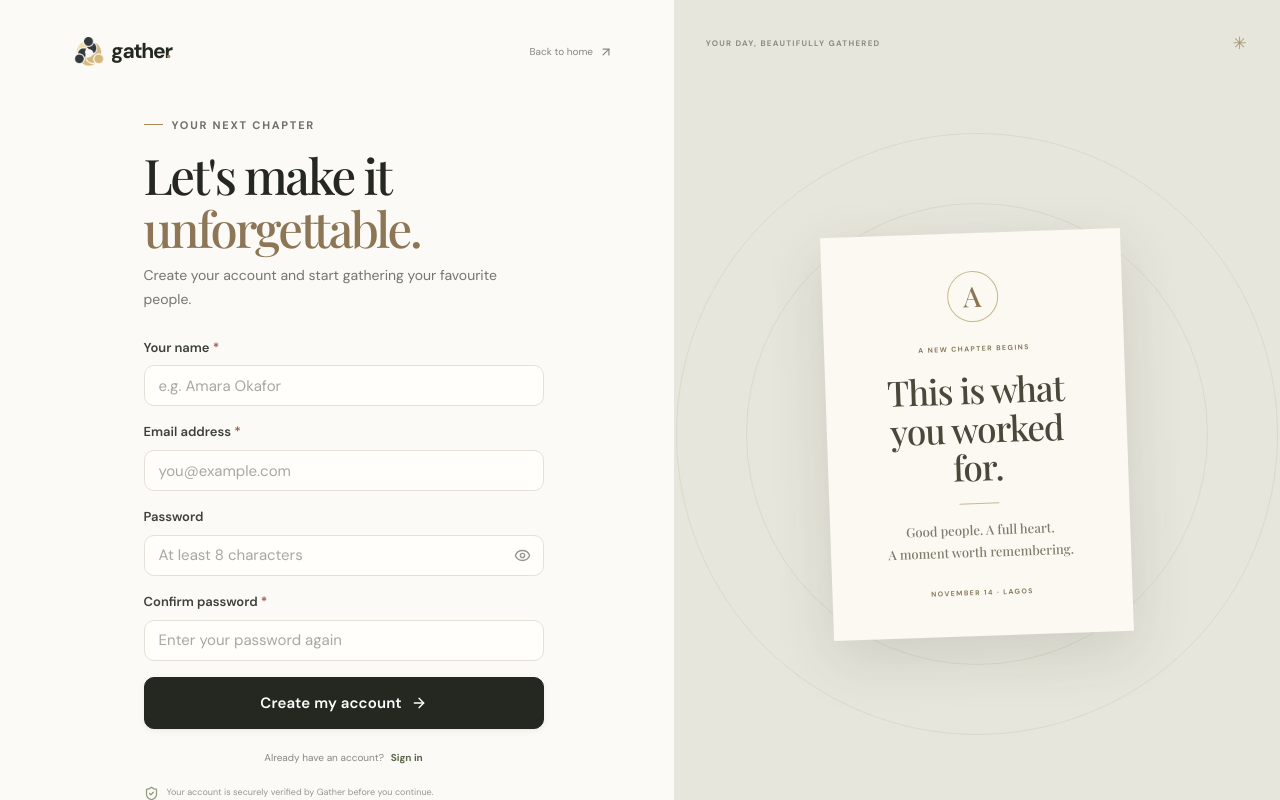
Test case: AuthPage › blocks signup when the passwords do not match
Step 1. Type "Ada Lovelace" into the field labelled "Your name *" → [344, 386], box left=144, top=365, right=544, bottom=406
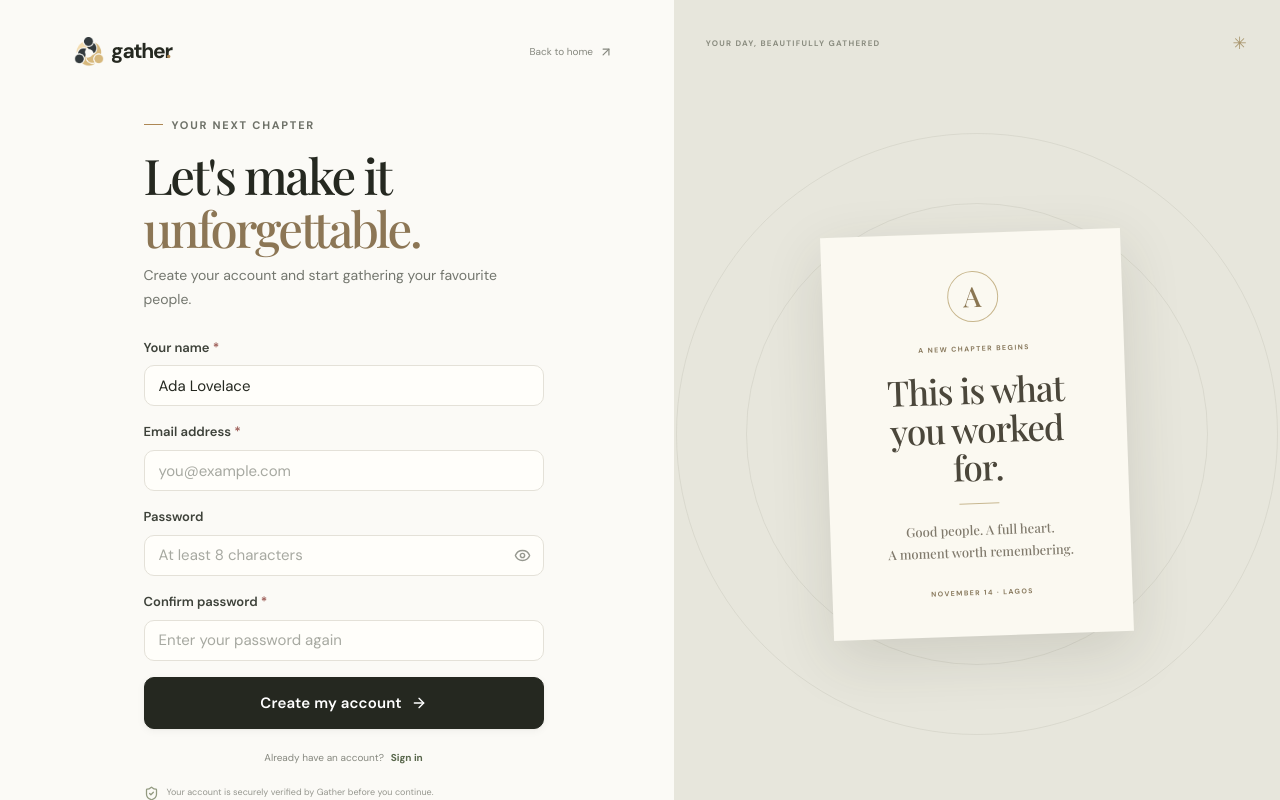
Step 2. Type "ada@example.com" into the field labelled "Email address *" → [344, 471], box left=144, top=450, right=544, bottom=491
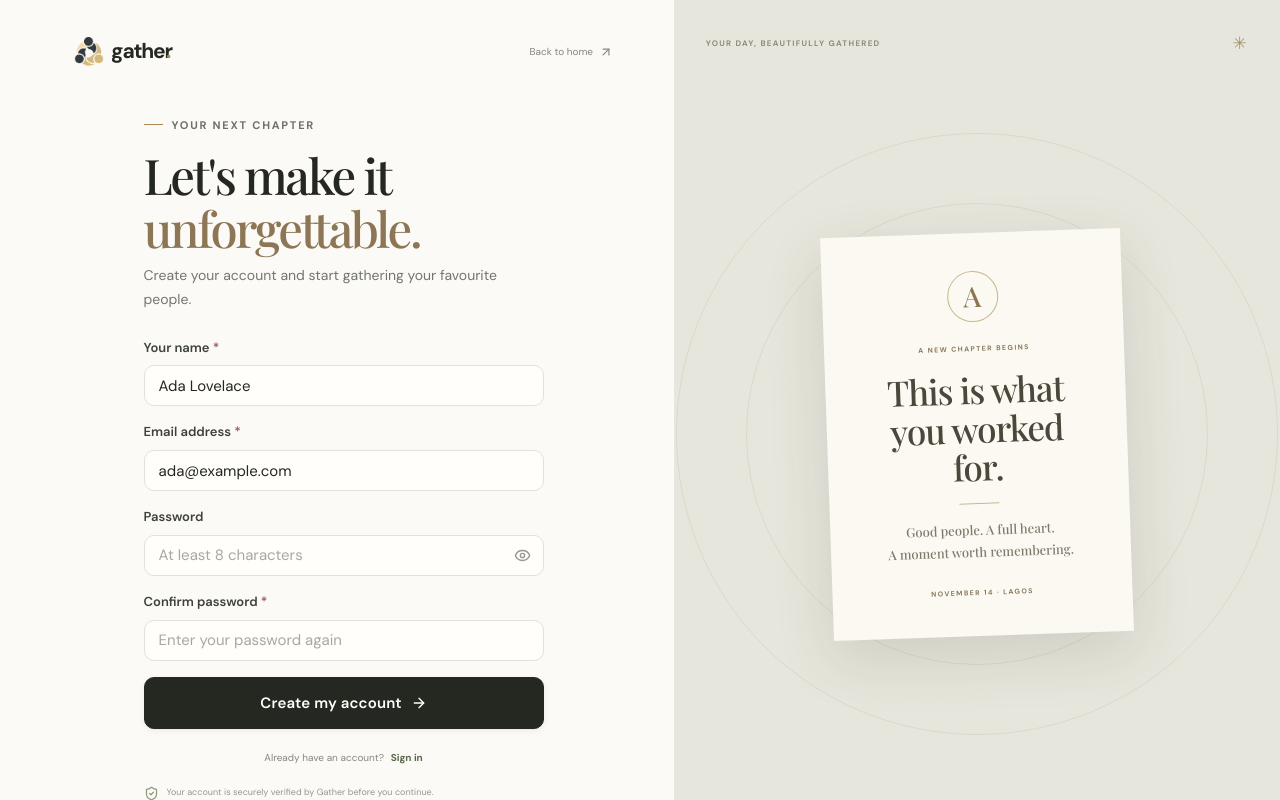
Step 3. Type "password123" into the password field labelled "Password" → [344, 555], box left=144, top=535, right=544, bottom=576
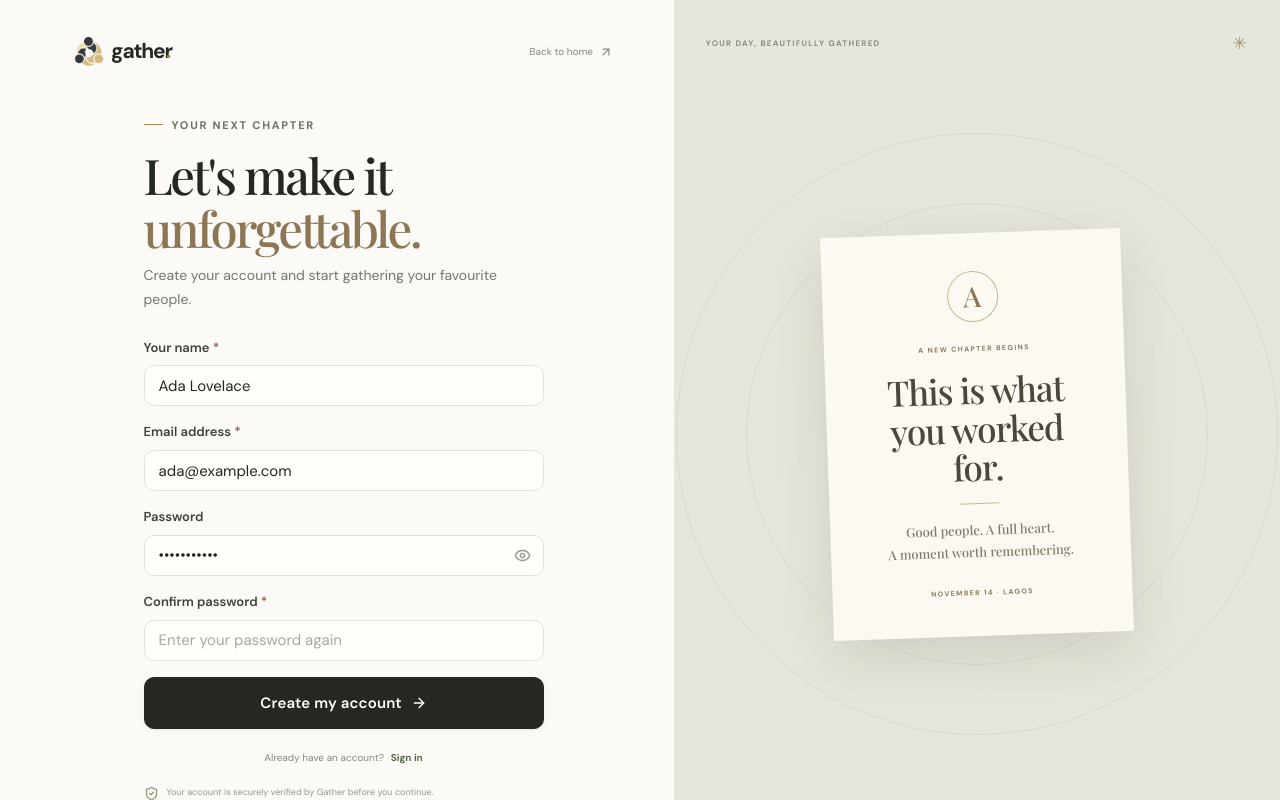
Step 4. Type "password124" into the password field labelled "Confirm password *" → [344, 640], box left=144, top=620, right=544, bottom=661
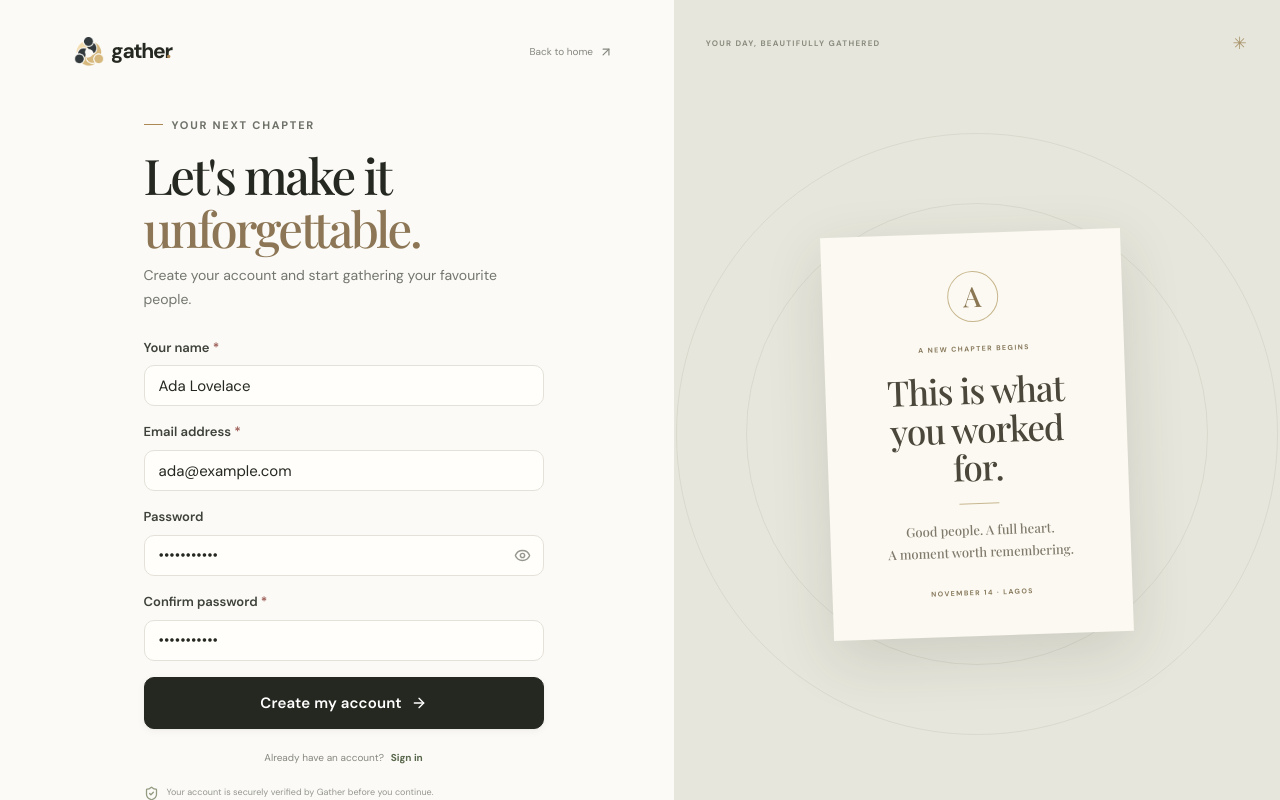
Step 5. Click the button "Create my account" → [344, 703], box left=144, top=677, right=544, bottom=729
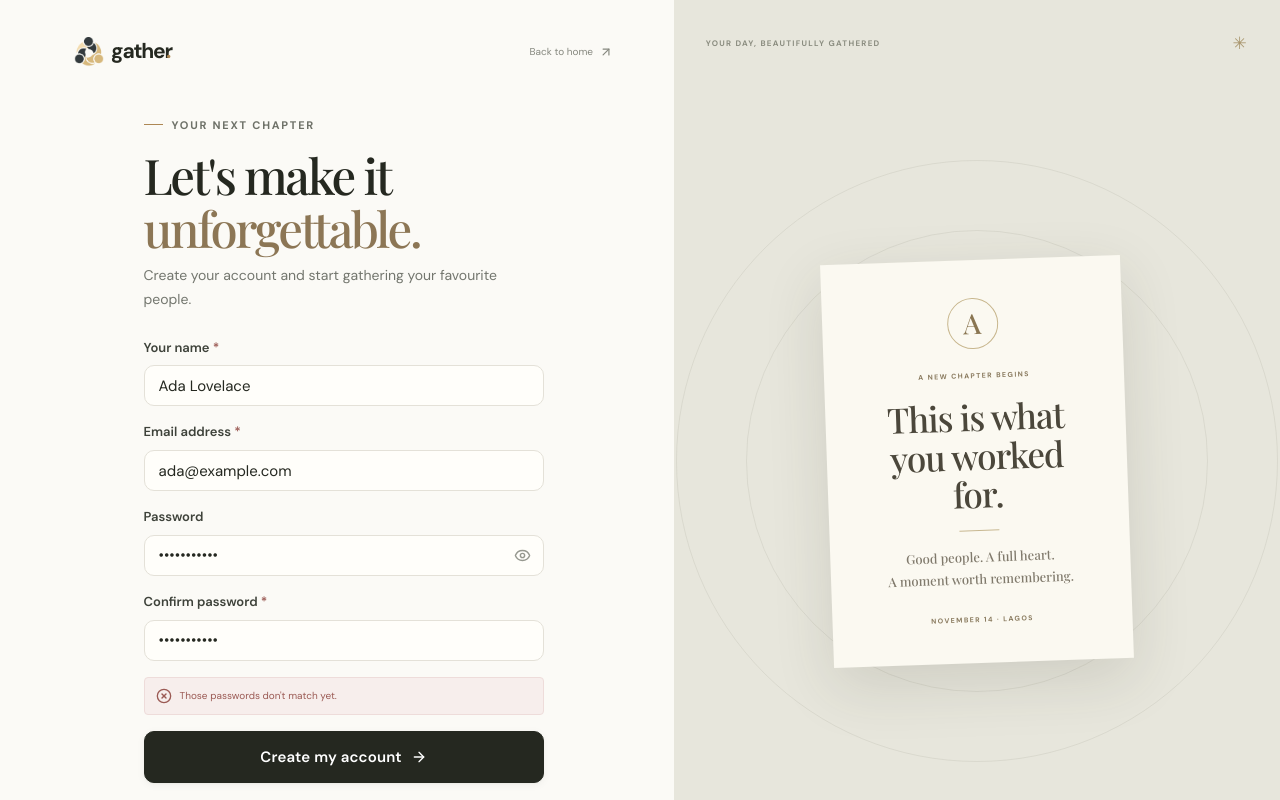
Expected: the text "Those passwords don't match yet." is shown, left=144, top=677, right=544, bottom=715
